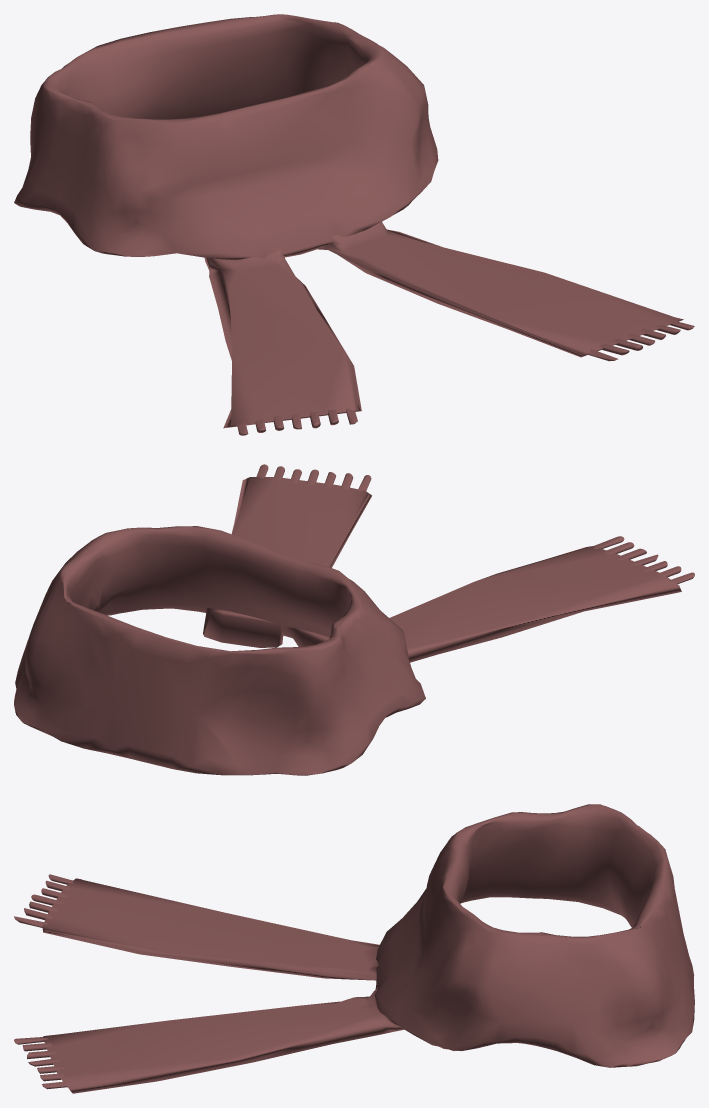
File: マフラー01.fbx
3 renders of one model, top to bottom at view 1: azimuth 30°, elevation 25°; view 2: azimuth 150°, elevation 25°; view 3: azimuth 270°, elevation 25°, orthographic. The views are drawn at different scales.
Parts seen in each view (by area): view 1: polySurface36; view 2: polySurface36; view 3: polySurface36.
Boxes of the visible parts, left/top/right/bottom form: polySurface36: left=14, top=14, right=694, bottom=435; polySurface36: left=14, top=464, right=694, bottom=775; polySurface36: left=14, top=804, right=694, bottom=1093.
Bounding box in the file's own units: 24.92 × 7.05 × 33.34.
